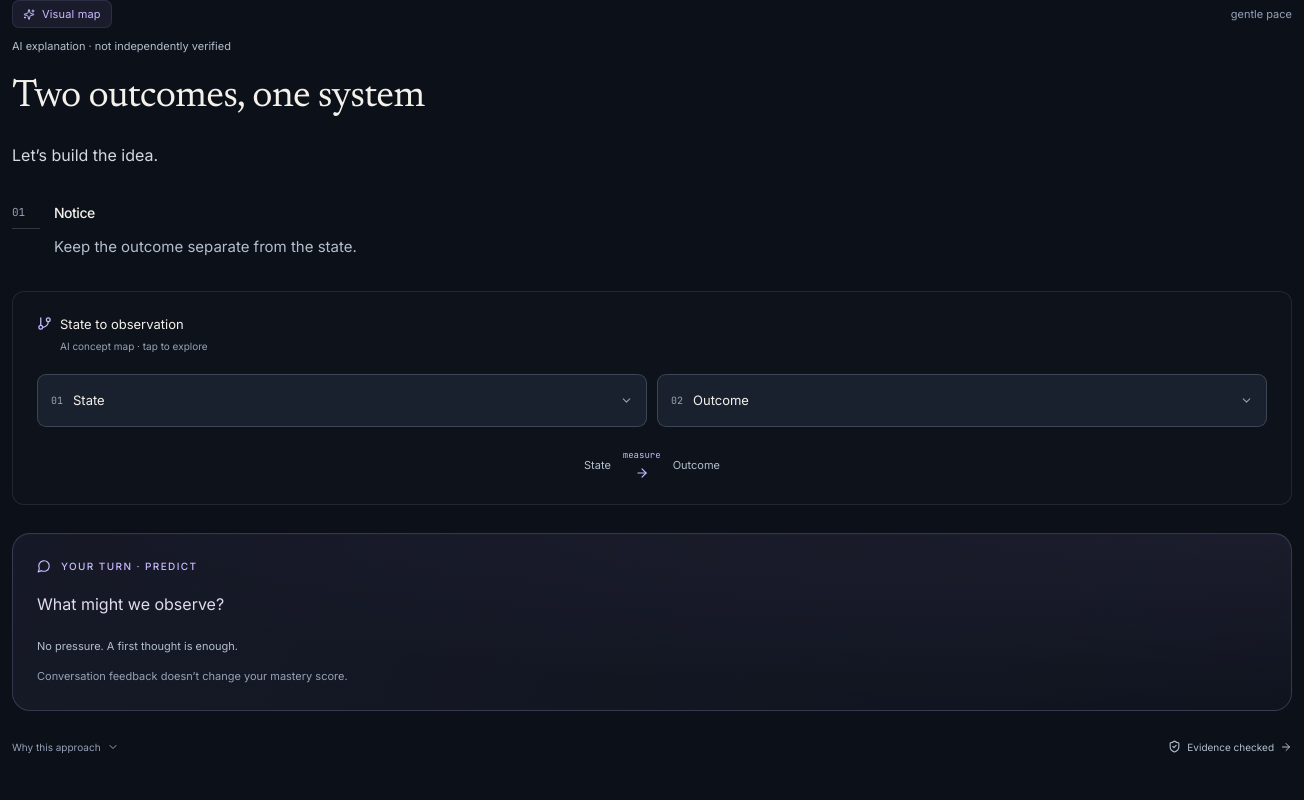
adaptive teacher › renders diagrams as safe, expandable text data
Click the button with aria-label "State: show detail" at (89, 400), box [37,374,647,427]
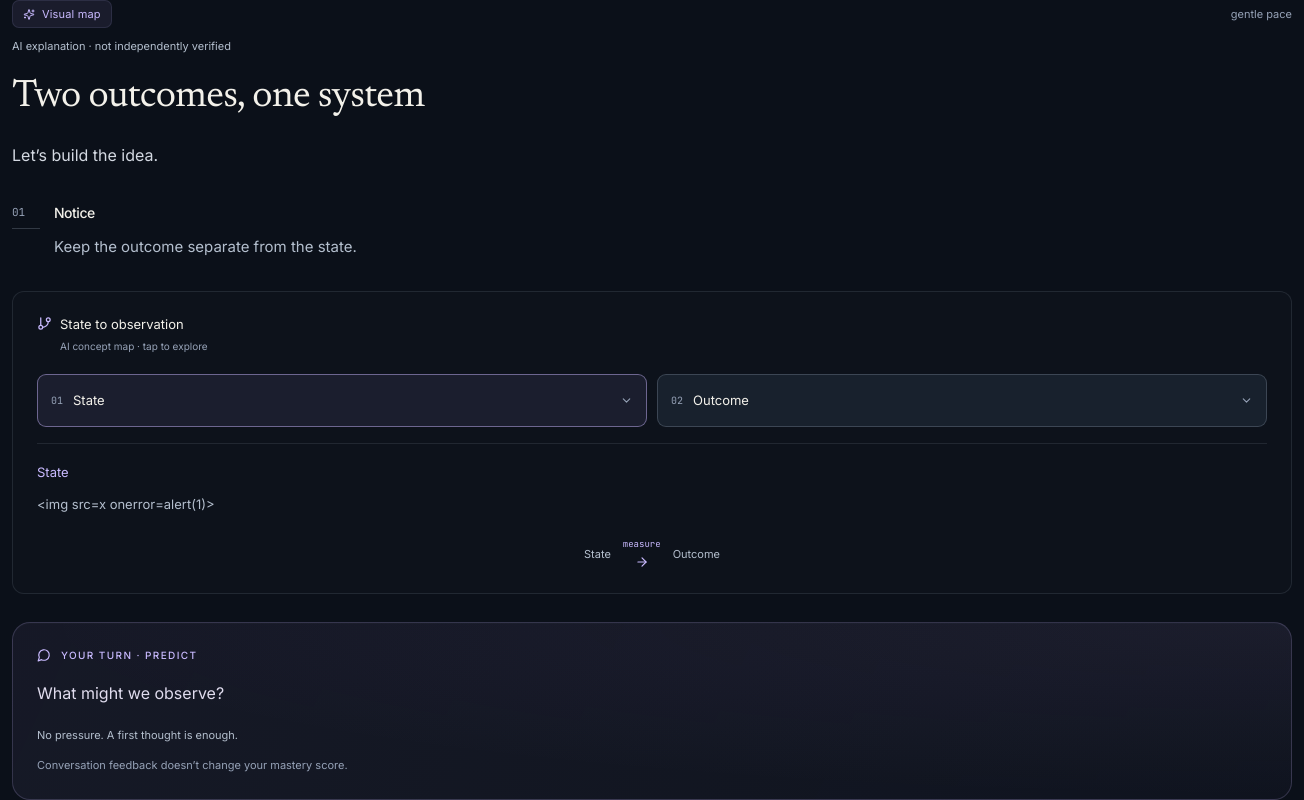
Expected: the text "measure" is shown, [623,538,661,569]
Expected: the text "<img src=x onerror=alert(1)>" is shown, [37,496,214,512]
